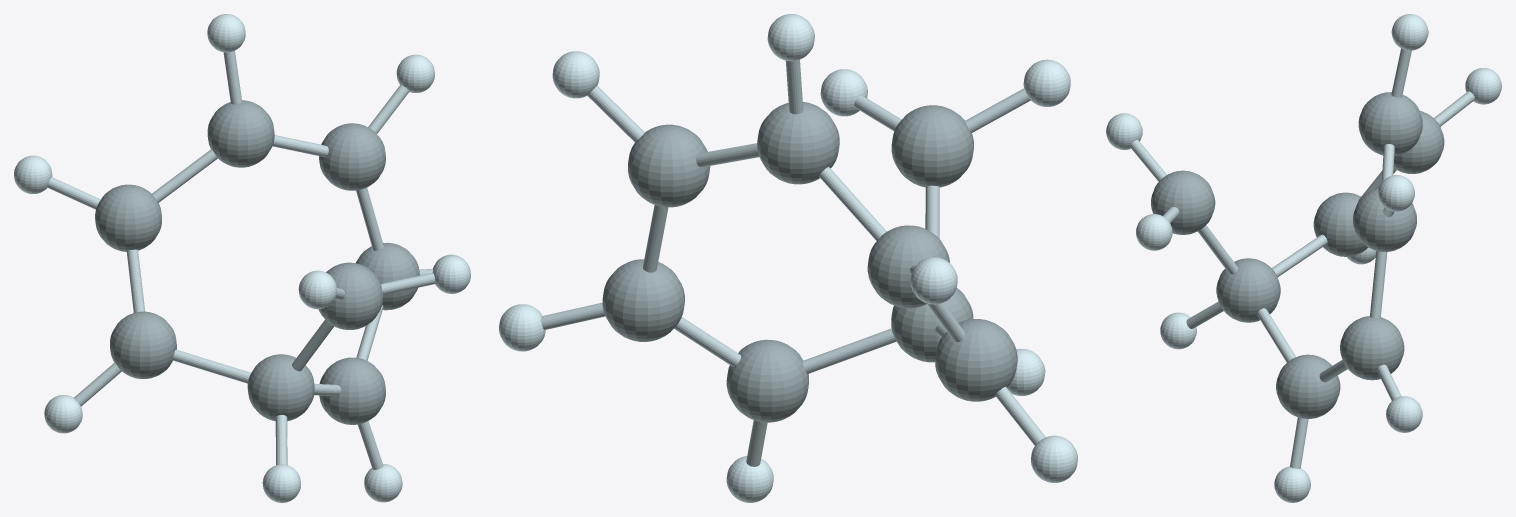
File: irc_step_106.glb
3 renders of one model, left to right at view 1: azimuth 30°, elevation 25°; view 2: azimuth 150°, elevation 25°; view 3: azimuth 270°, elevation 25°, orthographic. The views are drawn at different scales.
Parts seen in each view (by area): view 1: Renderer Node; view 2: Renderer Node; view 3: Renderer Node.
Part boxes in pixels (x1,y1,x2,y2): Renderer Node: [14, 14, 470, 502]; Renderer Node: [499, 14, 1077, 502]; Renderer Node: [1106, 14, 1501, 502].
Size of the model in its own units: 5.31 by 5.29 by 4.3.
